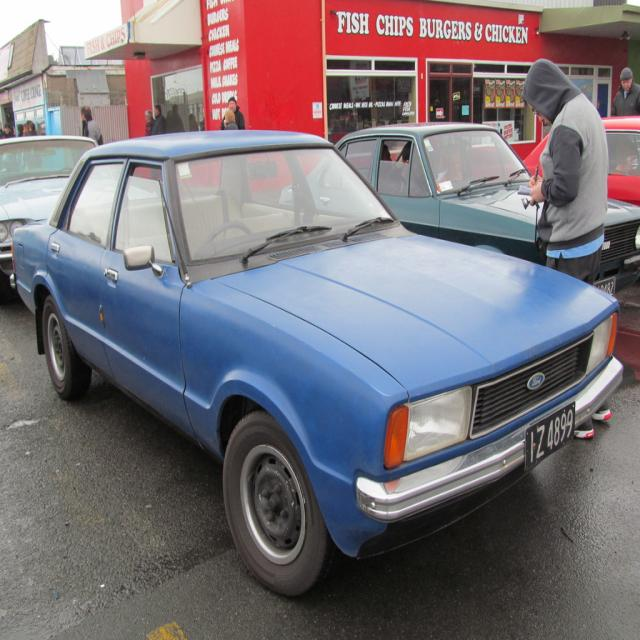car: (10, 120, 626, 604)
